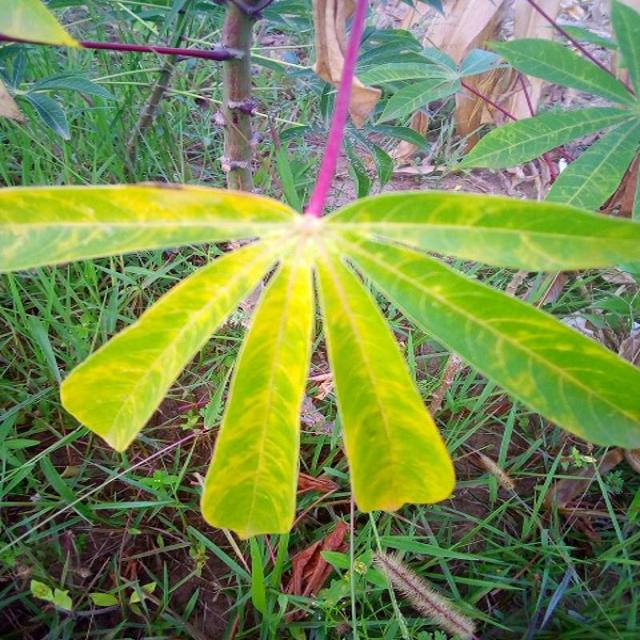cassava leaf: (1, 2, 638, 538), (59, 238, 278, 452), (314, 238, 456, 514), (199, 245, 315, 539)
